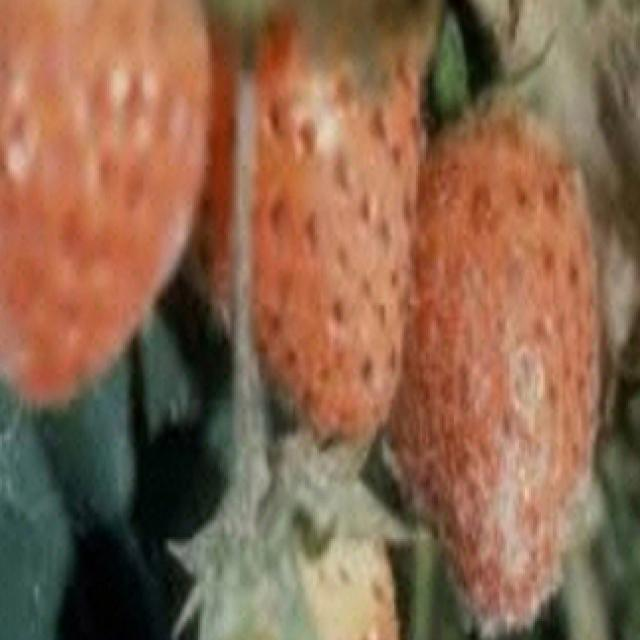Powdery Mildew Fruit: (379, 90, 604, 636), (175, 0, 435, 449)
